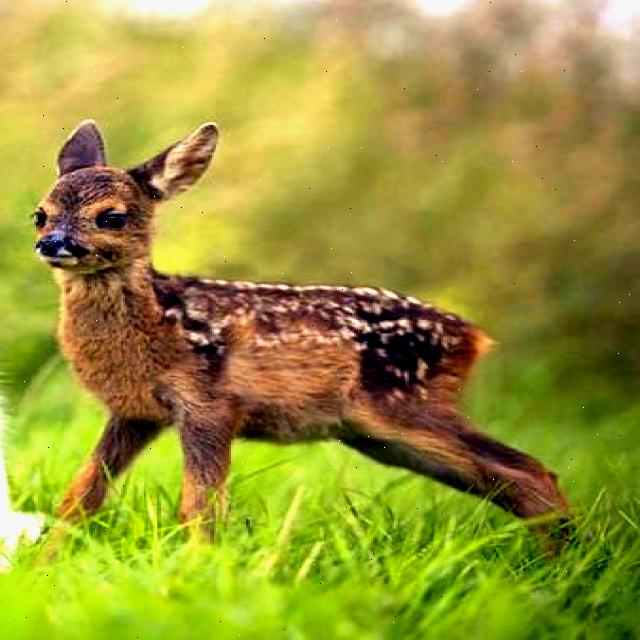deer: (6, 104, 248, 300)
